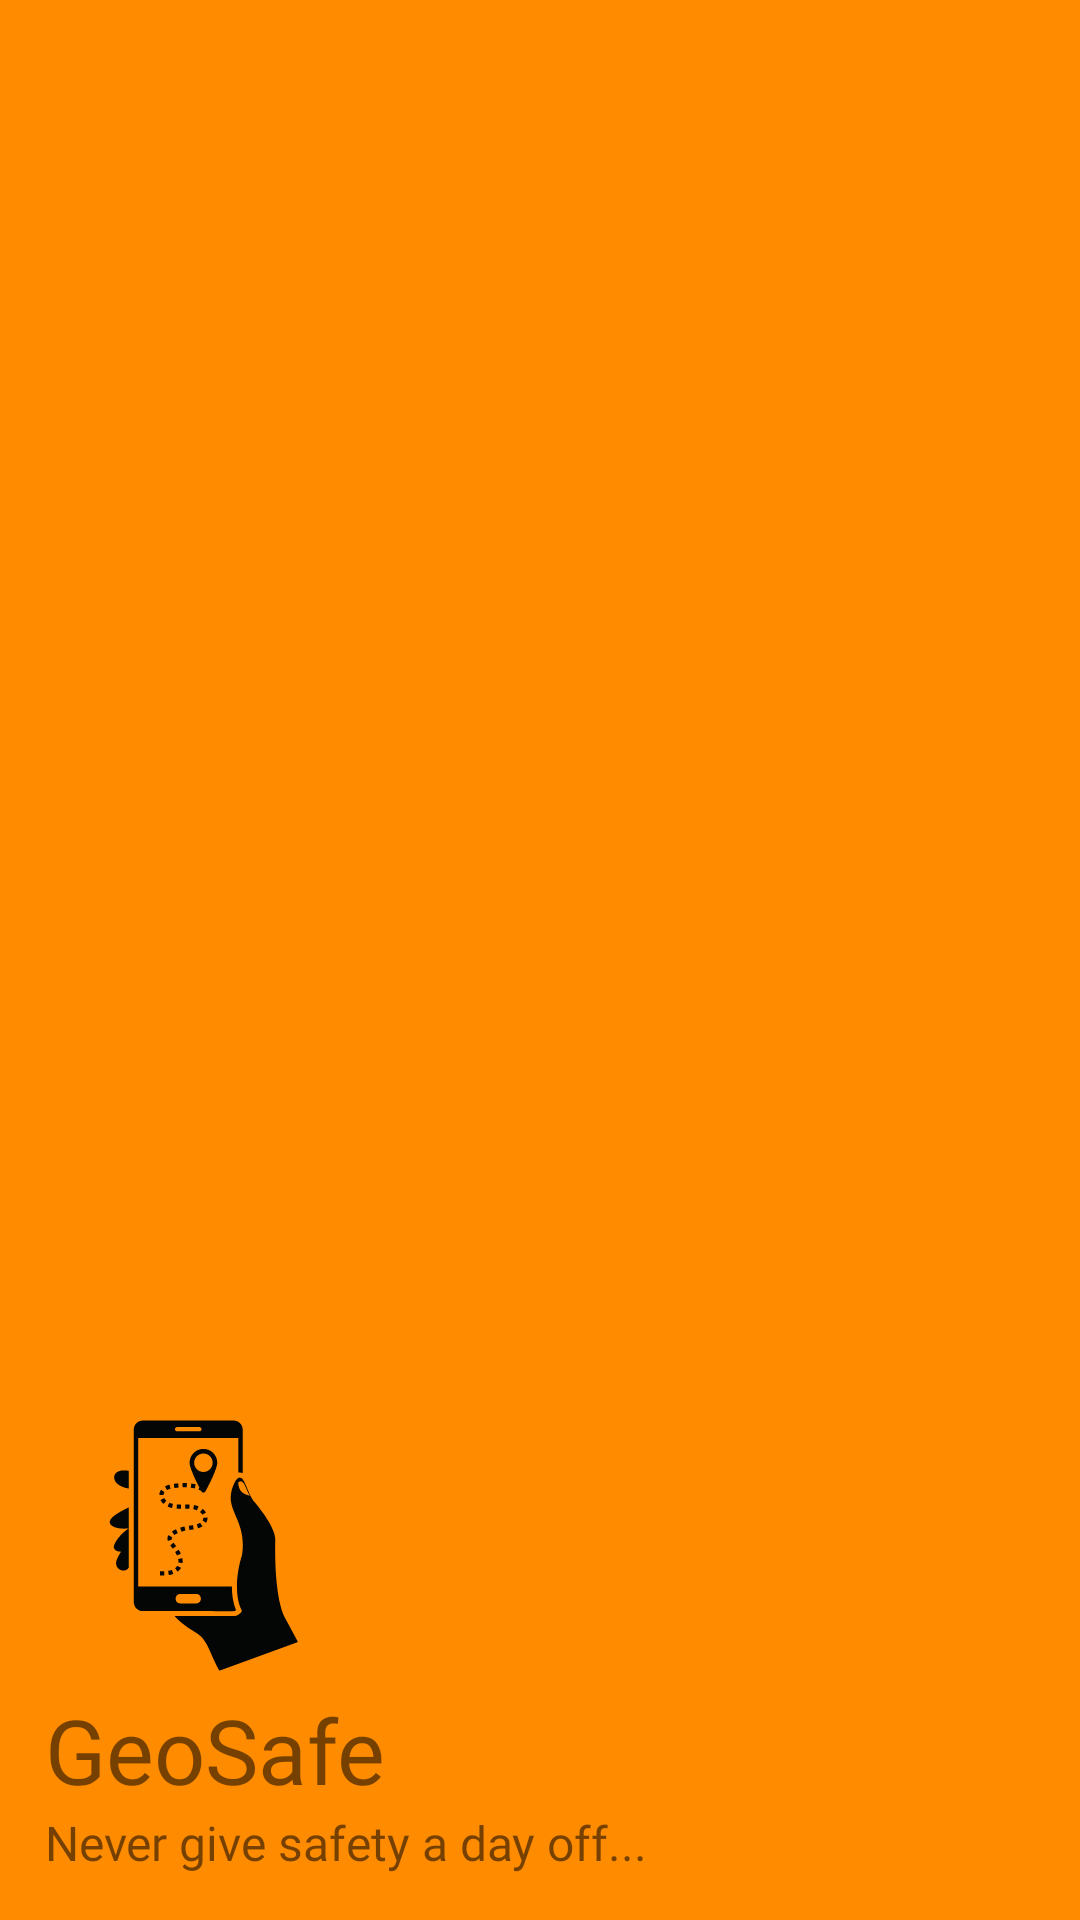

Where icons sit on this 1080×1920 app screen, as (x1, y1, x2, y2):
tracking: (109, 1420, 298, 1671)
